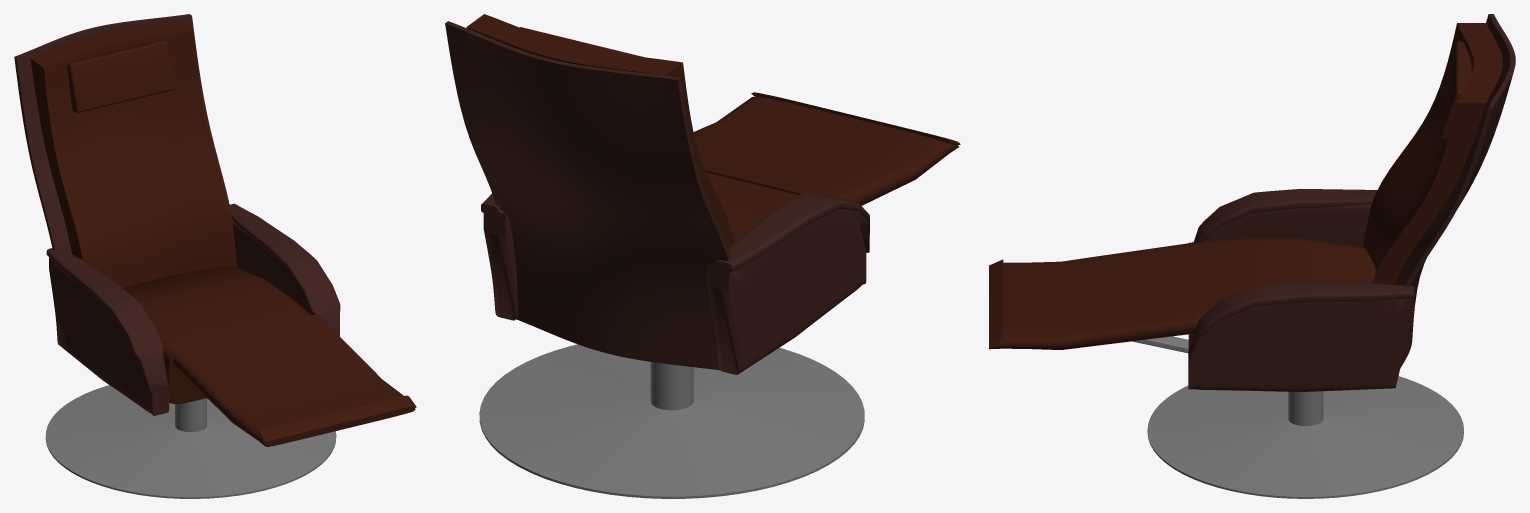
File: salon_chair__935eae859544.glb
The picture shows the model from 3 angles, left to right: view 1: azimuth 30°, elevation 25°; view 2: azimuth 150°, elevation 25°; view 3: azimuth 270°, elevation 25°; orthographic projection. The views are drawn at different scales.
Visible parts, largest first — view 1: back_cushion, base, leg, arm_panel, seat, arm_panel.001, head_pad, back_shell; view 2: back_shell, base, arm_panel, leg, back_cushion, arm_panel.001, seat; view 3: base, arm_panel.001, leg, back_cushion, seat, arm_panel, back_shell, head_pad.
Boxes of the visible parts, x1,y1,x2,y2 form: back_cushion: [30, 22, 236, 288]; base: [45, 385, 336, 498]; leg: [172, 315, 416, 446]; arm_panel: [46, 248, 169, 415]; seat: [123, 266, 310, 404]; arm_panel.001: [229, 203, 340, 336]; head_pad: [67, 40, 174, 112]; back_shell: [14, 14, 230, 253]; back_shell: [445, 21, 731, 370]; base: [479, 344, 864, 498]; arm_panel: [706, 192, 869, 374]; leg: [693, 92, 960, 205]; back_cushion: [466, 14, 734, 247]; arm_panel.001: [481, 193, 518, 320]; seat: [705, 172, 798, 241]; base: [1147, 376, 1463, 498]; arm_panel.001: [1188, 282, 1413, 392]; leg: [989, 242, 1195, 349]; back_cushion: [1363, 23, 1502, 285]; seat: [1188, 238, 1376, 349]; arm_panel: [1193, 188, 1377, 247]; back_shell: [1399, 14, 1515, 367]; head_pad: [1440, 41, 1471, 140].
Bounding box in the file's own units: 0.603 × 0.7775 × 1.
